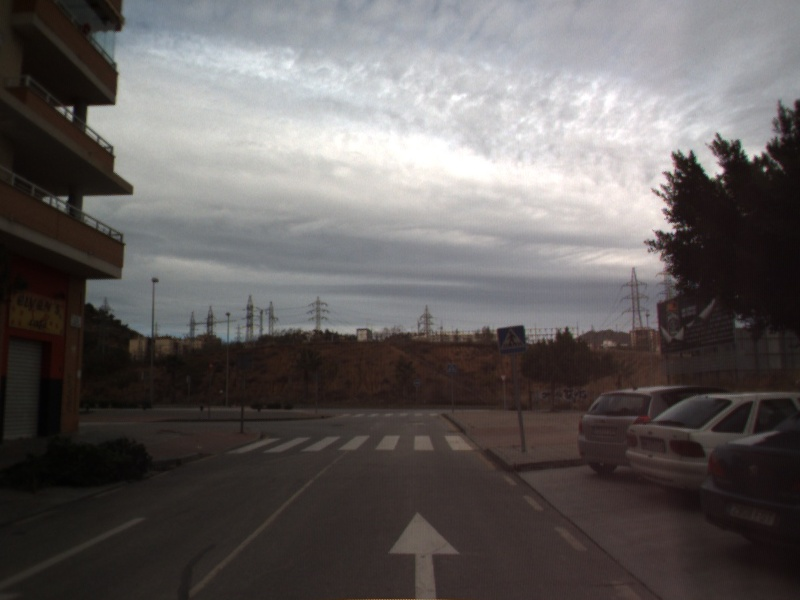STRAIGHT: (386, 507, 464, 600)
